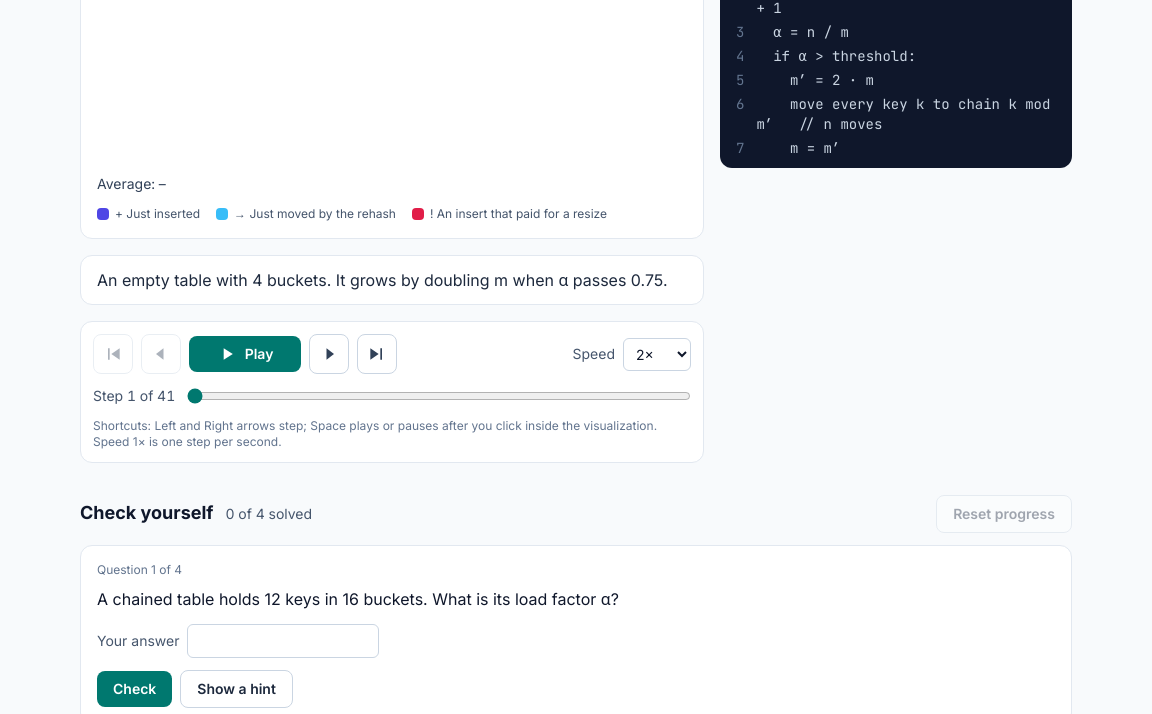
it: load factor and rehashing lesson › ends with the total and the average cost
(page scrolled)
Click the button named "Last step".
click(377, 354)  # box [357,334,397,374]
(page scrolled)
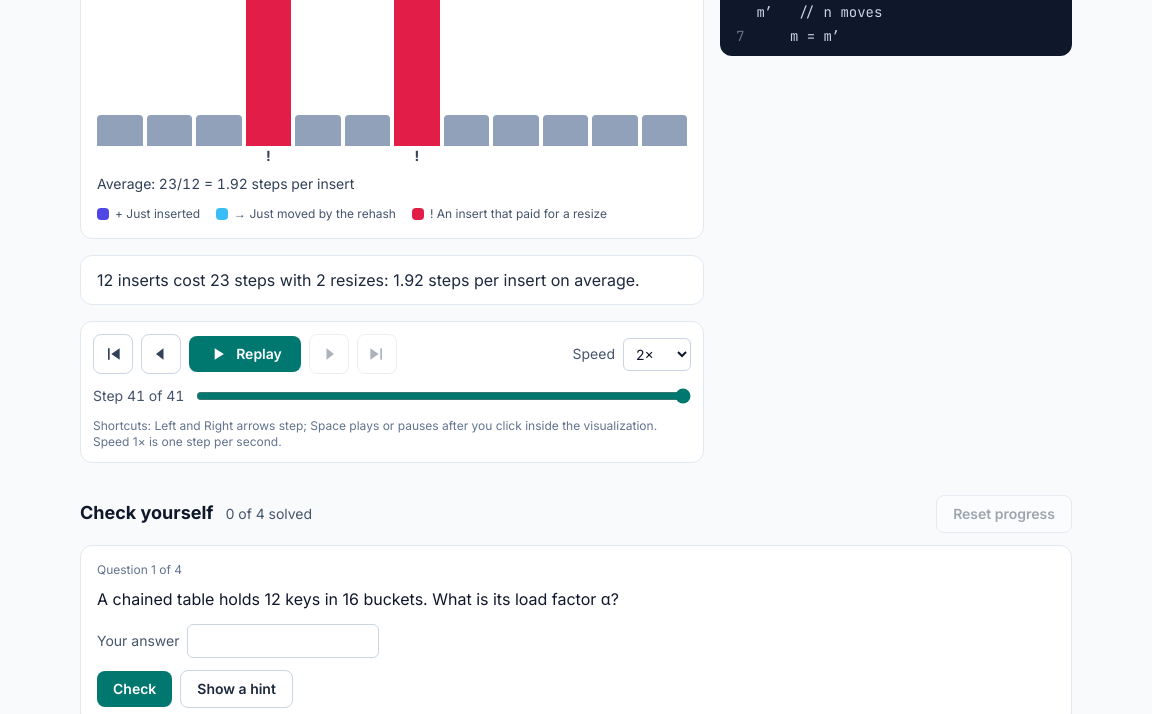
Expected: the text "12 inserts cost 23 steps with 2 resizes: 1.92 steps per insert on average." is shown, [80,255,704,305]
Expected: the text "Average: 23/12 = 1.92 steps per insert" is shown, [97,175,354,192]
